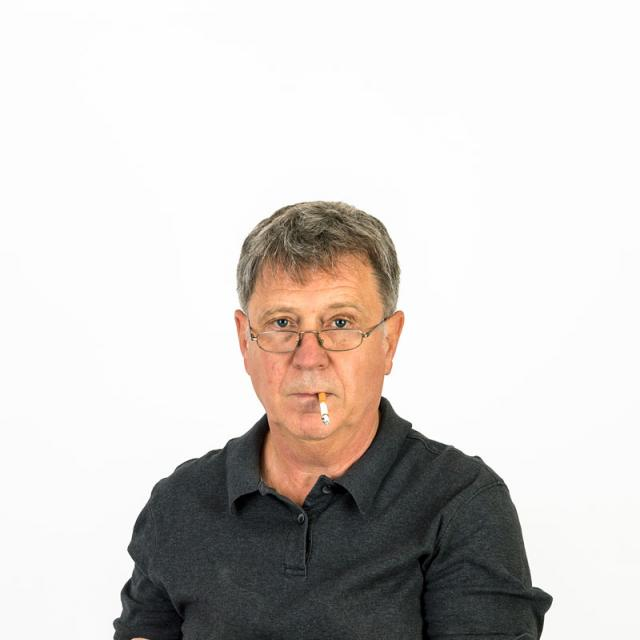smoking: (318, 390, 330, 428)
